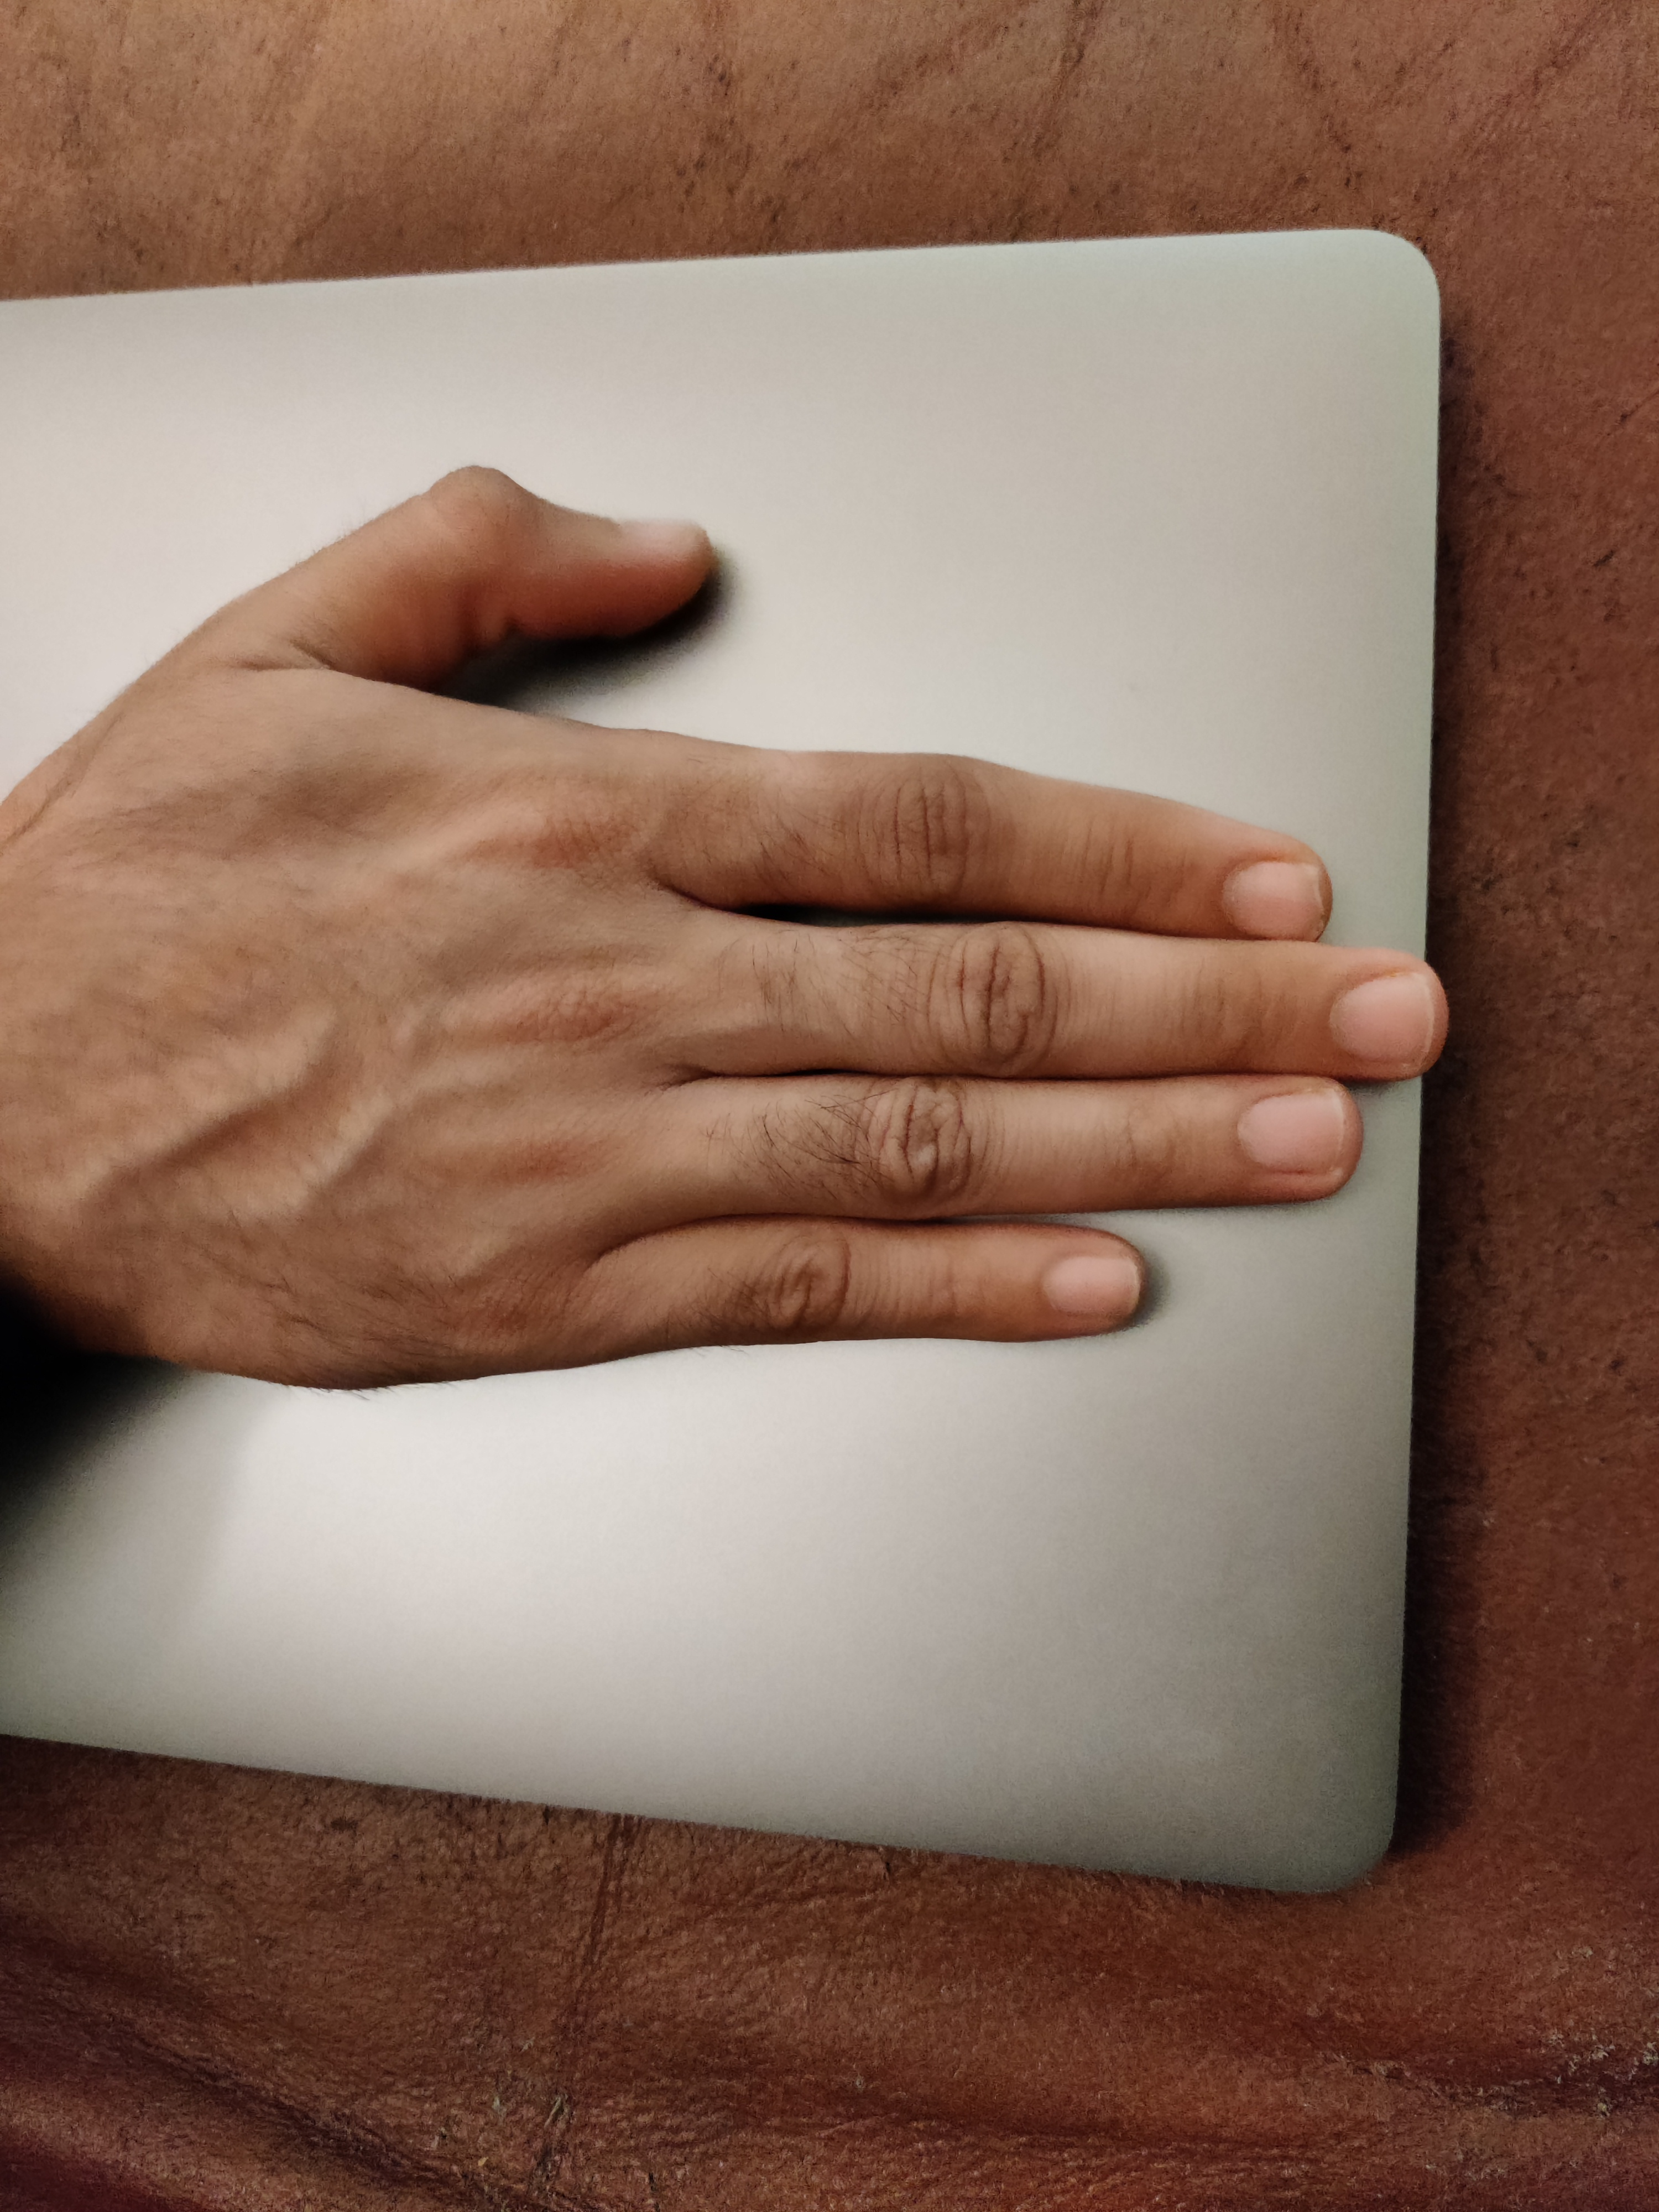left: (5, 253, 1568, 1655)
